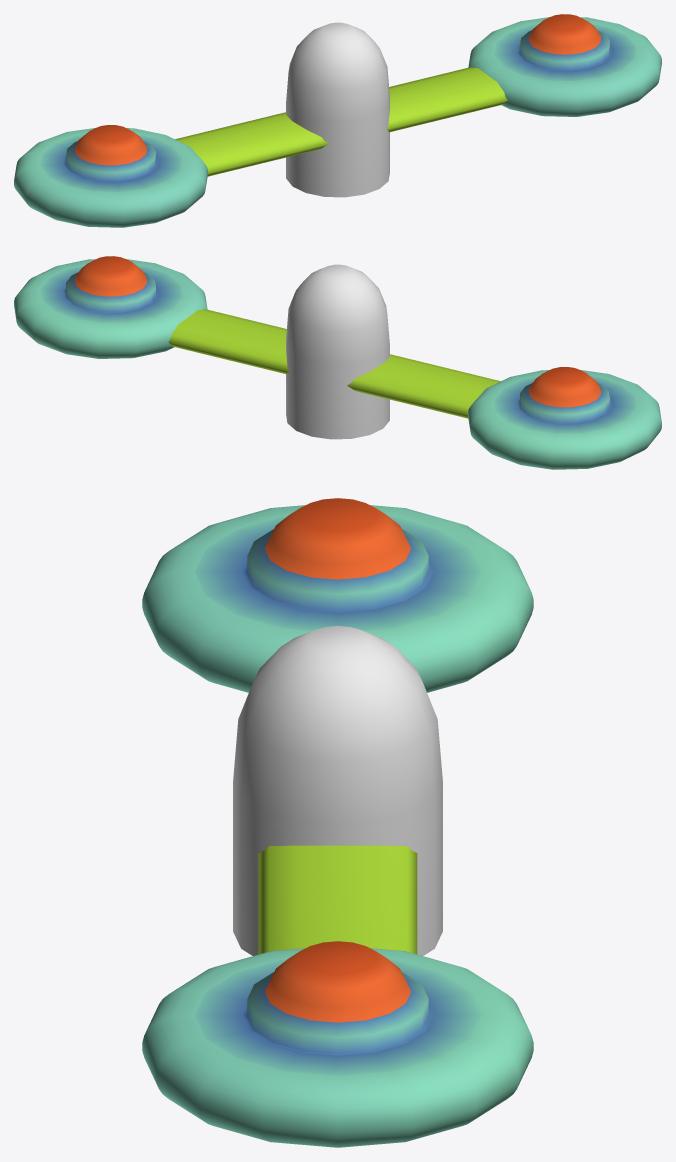
File: brushhit.fbx
The picture shows the model from 3 angles, top to bottom: view 1: azimuth 30°, elevation 25°; view 2: azimuth 150°, elevation 25°; view 3: azimuth 270°, elevation 25°; orthographic projection. The views are drawn at different scales.
Visible parts, largest first — view 1: Sphere, Cylinder; view 2: Sphere, Cylinder; view 3: Sphere, Cylinder.
Part boxes in pixels (x1,y1,x2,y2): Sphere: [14, 14, 661, 227]; Cylinder: [286, 22, 389, 197]; Sphere: [14, 256, 661, 469]; Cylinder: [286, 264, 389, 439]; Sphere: [142, 498, 533, 1147]; Cylinder: [233, 626, 442, 955].
Bounding box in the file's own units: 1373 × 307 × 373.
Materials: 1 (1 with a texture image).
